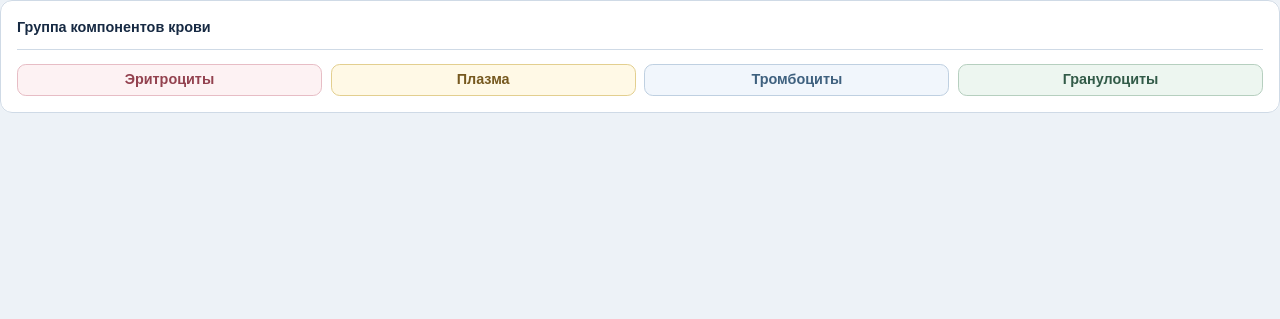
Test: offers a fourth component group with exactly two immutable granulocyte presets
This screenshot has width=1280, height=319.
Click the button "Гранулоциты" at (1111, 80), box left=958, top=64, right=1263, bottom=96
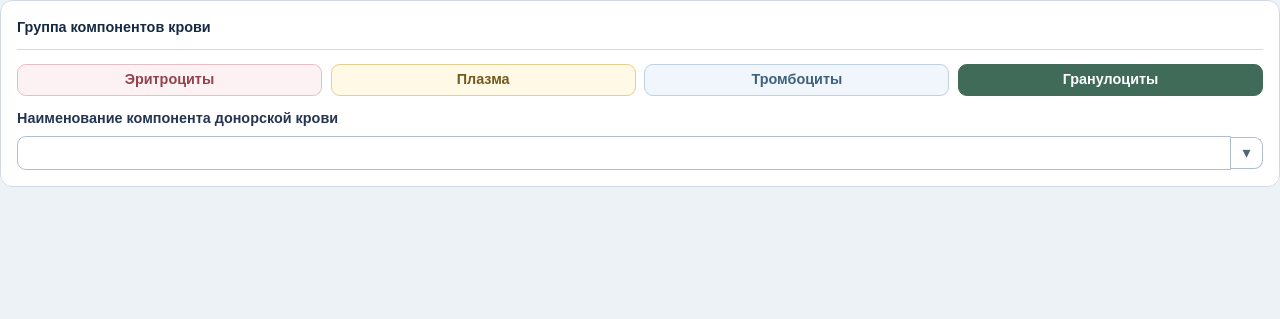
Now the button "Гранулоциты" is pressed, box left=958, top=64, right=1263, bottom=96
Click the button "▾" at (1247, 153), box left=1231, top=137, right=1263, bottom=169
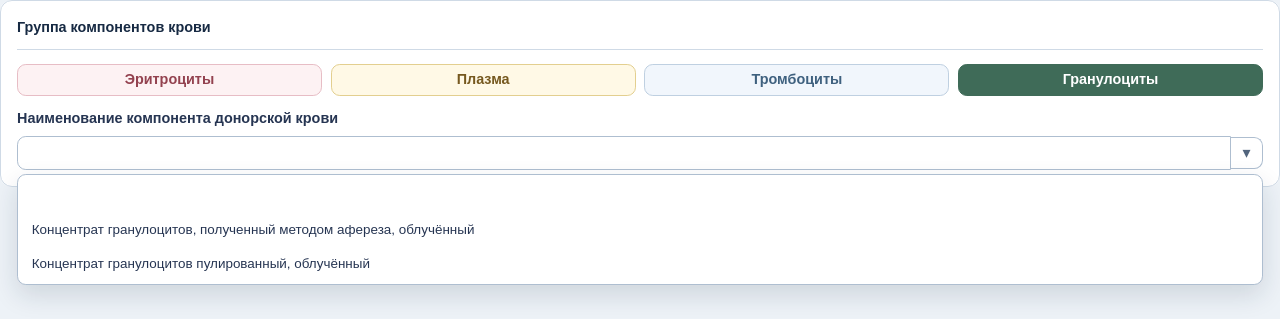
Now the button "Концентрат гранулоцитов, полученный методом афереза, облучённый" is shown
Now the button "Концентрат гранулоцитов пулированный, облучённый" is shown, box left=23, top=247, right=1247, bottom=279
Click the button "Концентрат гранулоцитов, полученный методом афереза, облучённый" at (253, 230), box left=23, top=214, right=1247, bottom=246
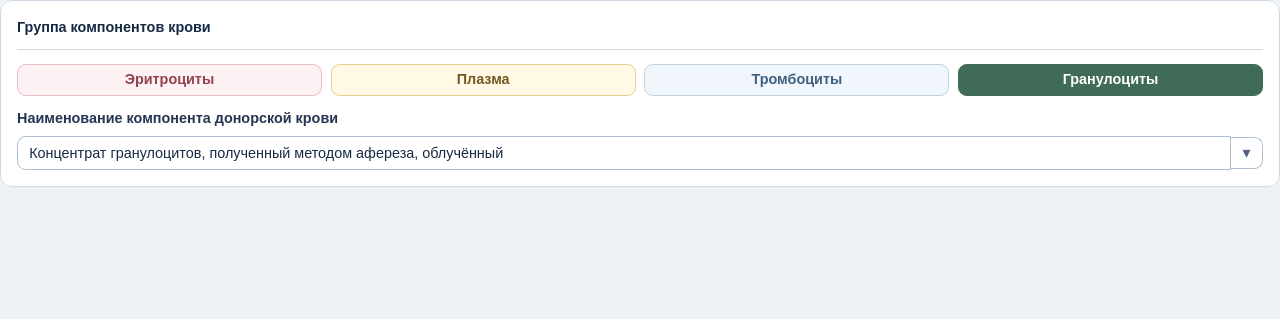
Now the field named "Наименование компонента донорской крови" holds "Концентрат гранулоцитов, полученный методом афереза, облучённый", box left=17, top=136, right=1231, bottom=170
